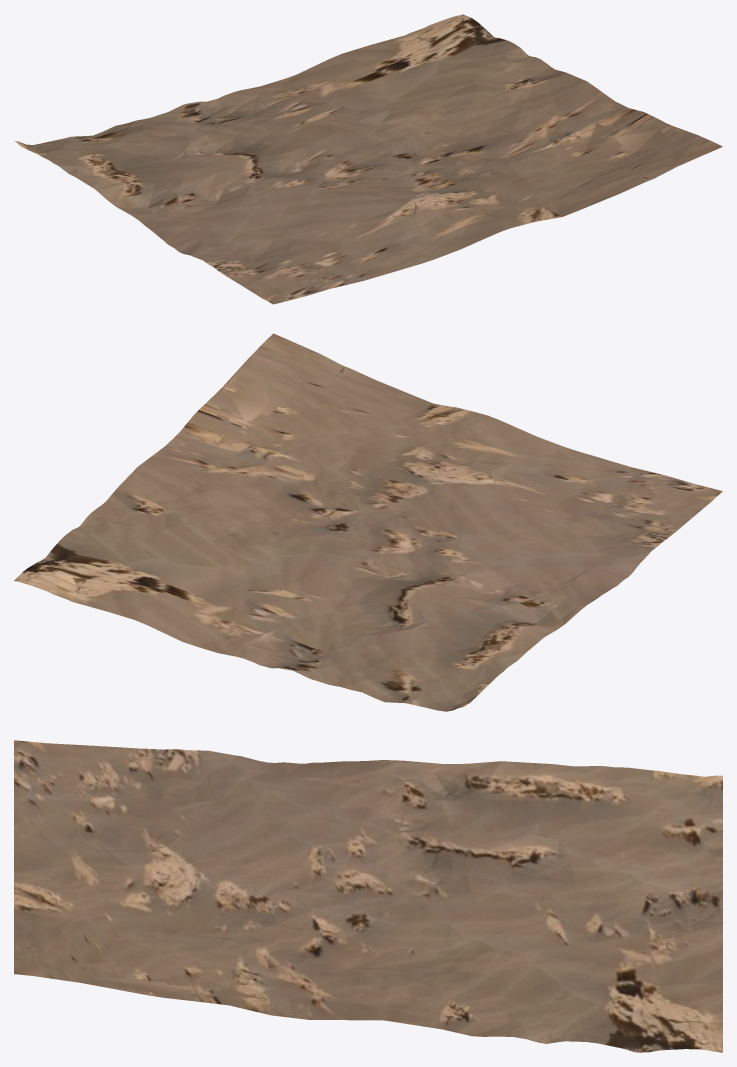
The picture shows the model from 3 angles, top to bottom: view 1: azimuth 30°, elevation 25°; view 2: azimuth 150°, elevation 25°; view 3: azimuth 270°, elevation 25°; orthographic projection. The views are drawn at different scales.
Size of the model in its own units: 2.09 by 0.3924 by 2.09.
Materials: 2 (2 with a texture image).
